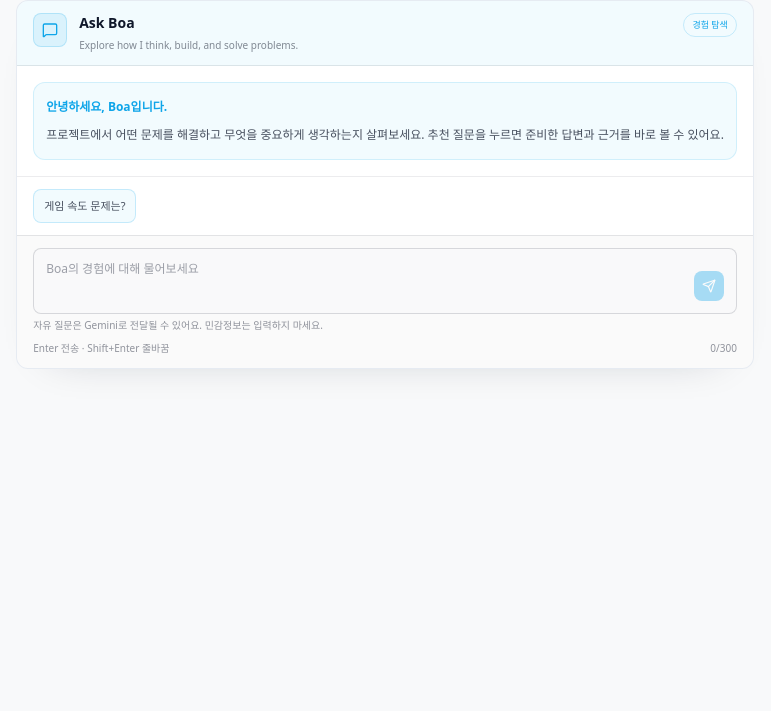
Test: answers repeated suggested questions with reviewed sources and no request
Click the button "게임 속도 문제는?". click: (85, 206)
box: [33, 189, 136, 223]
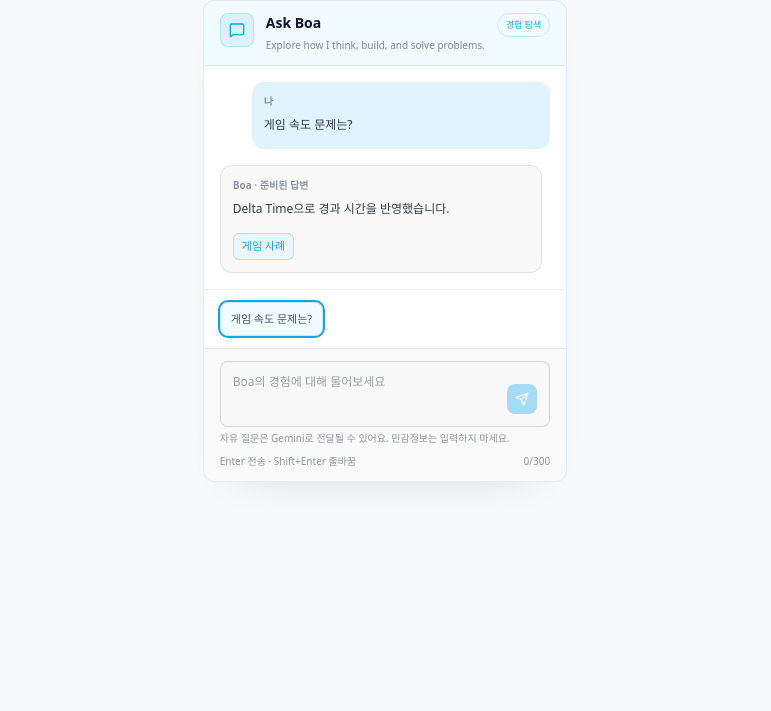
expect the text "Delta Time으로 경과 시간을 반영했습니다." is shown: met, box [233, 200, 450, 217]
Click the button "게임 속도 문제는?". click: (271, 318)
box: [220, 302, 323, 336]
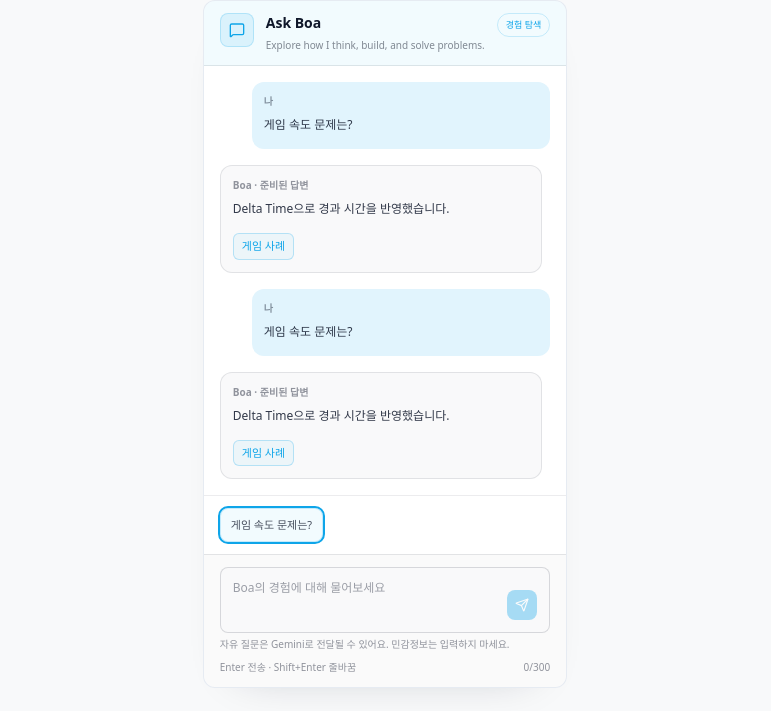
expect the text "Delta Time으로 경과 시간을 반영했습니다." is shown 2 times: met, box [233, 200, 450, 217]; [233, 406, 450, 424]
